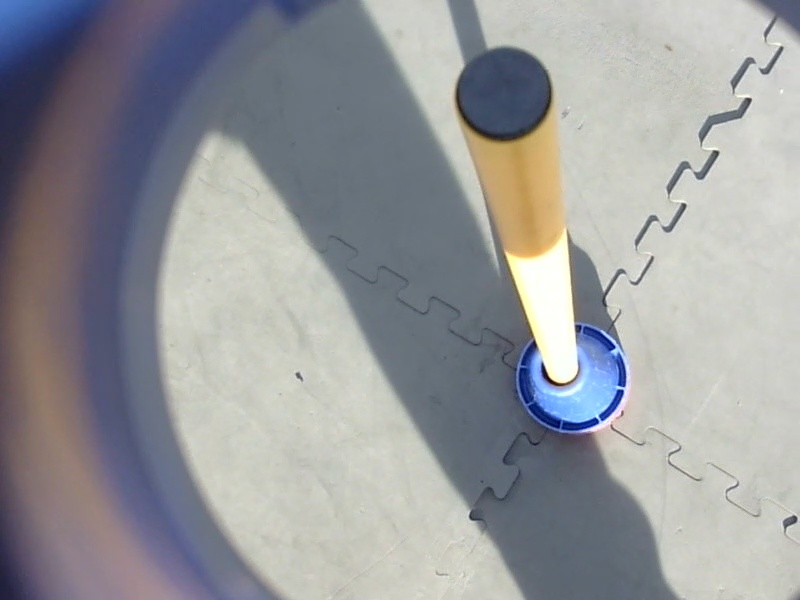tip: (445, 41, 564, 150)
